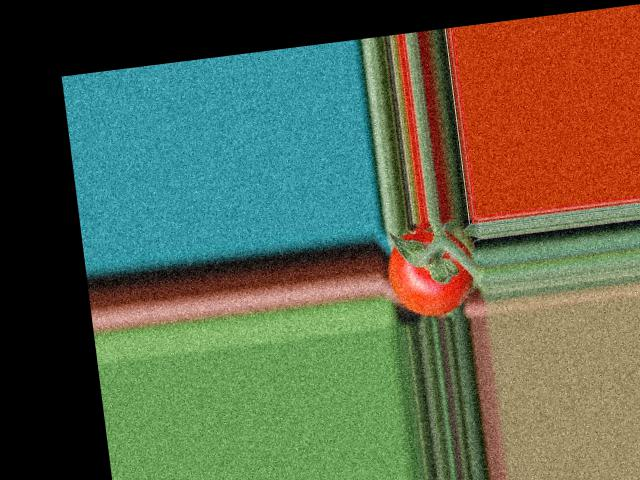tomato: (382, 218, 479, 320)
